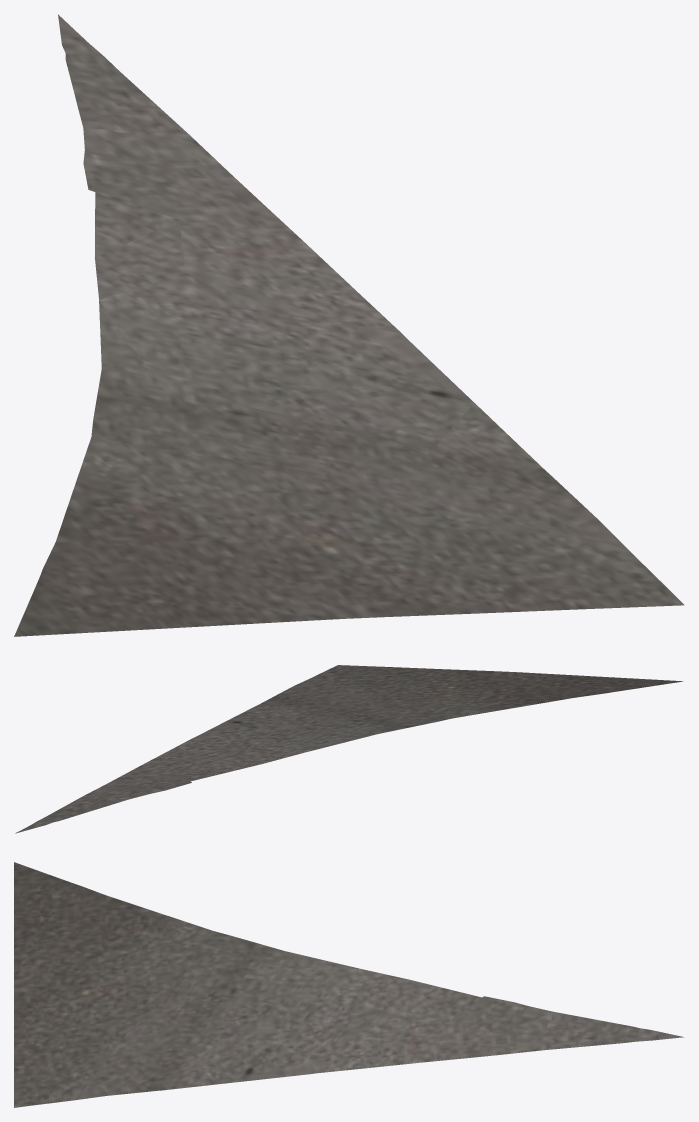
3 views of the same model, one above another, from view 1: azimuth 30°, elevation 25°; view 2: azimuth 150°, elevation 25°; view 3: azimuth 270°, elevation 25° (orthographic). The views are drawn at different scales.
Bounding box in the file's own units: 1.81 × 0.3407 × 2.93.
Materials: 1 (1 with a texture image).
